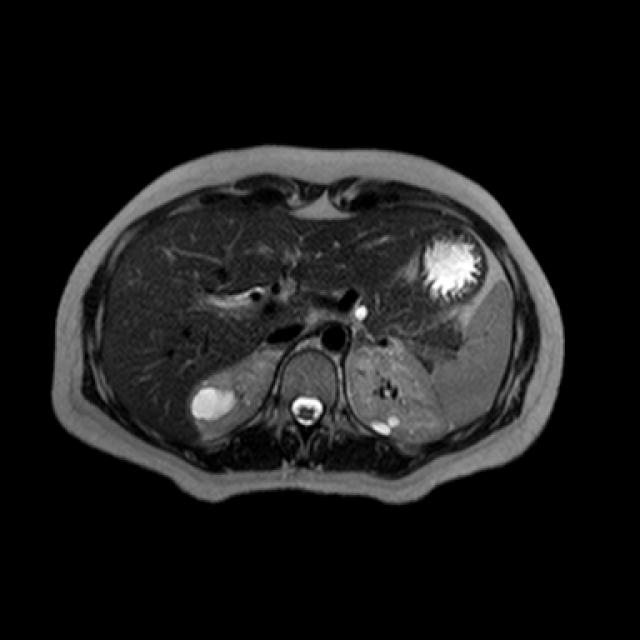sag: (190, 348, 281, 437)
sol: (347, 347, 449, 441)
